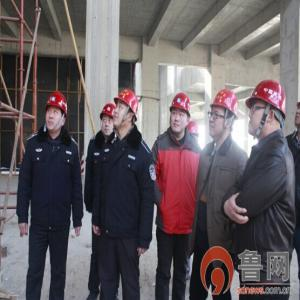red: (247, 77, 289, 144), (207, 89, 240, 141), (113, 89, 139, 133), (45, 91, 68, 134), (169, 93, 193, 134), (100, 104, 117, 139)
